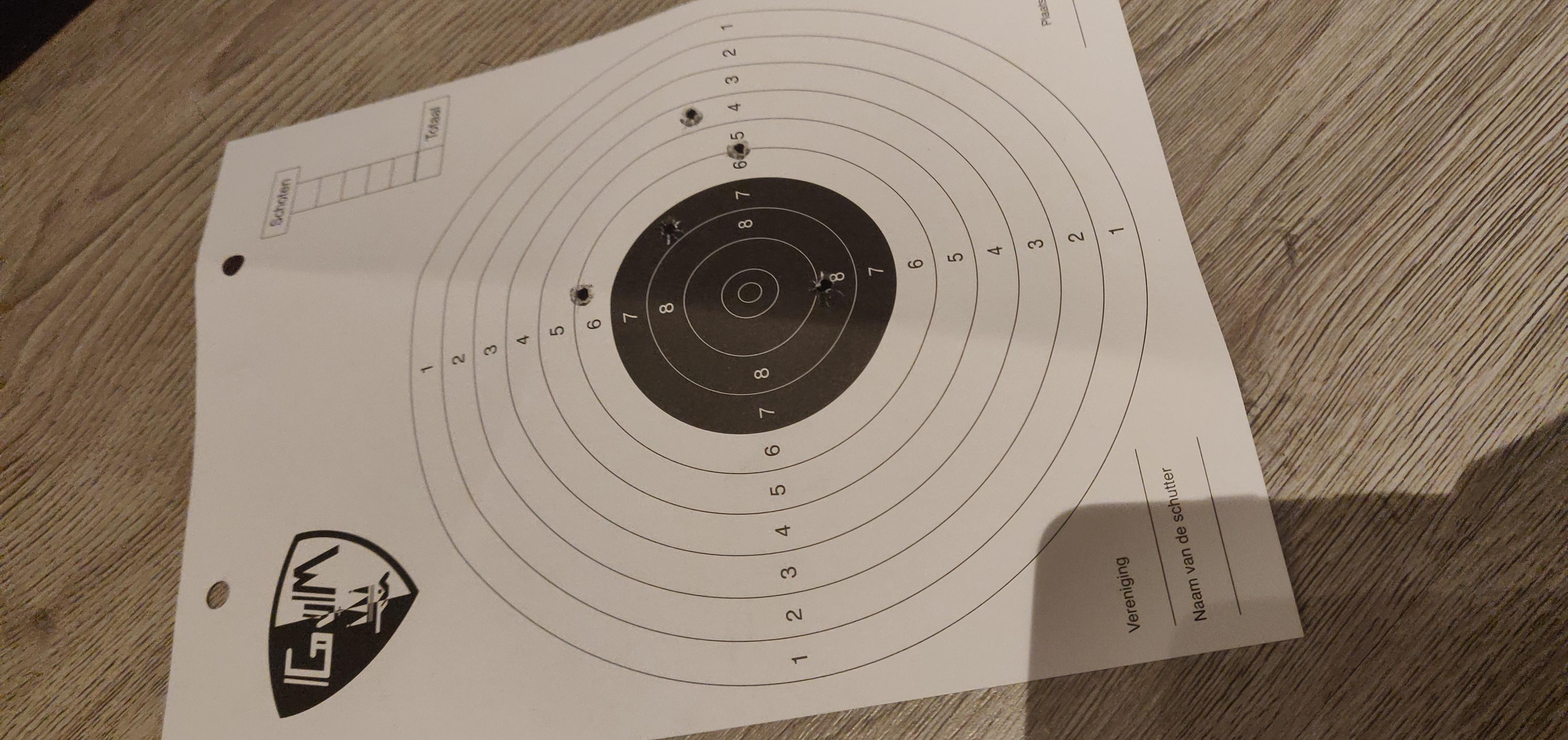hole: (921, 381, 1000, 399), (1053, 310, 1118, 324), (1295, 320, 1350, 334), (1223, 341, 1276, 355), (919, 269, 970, 280)
